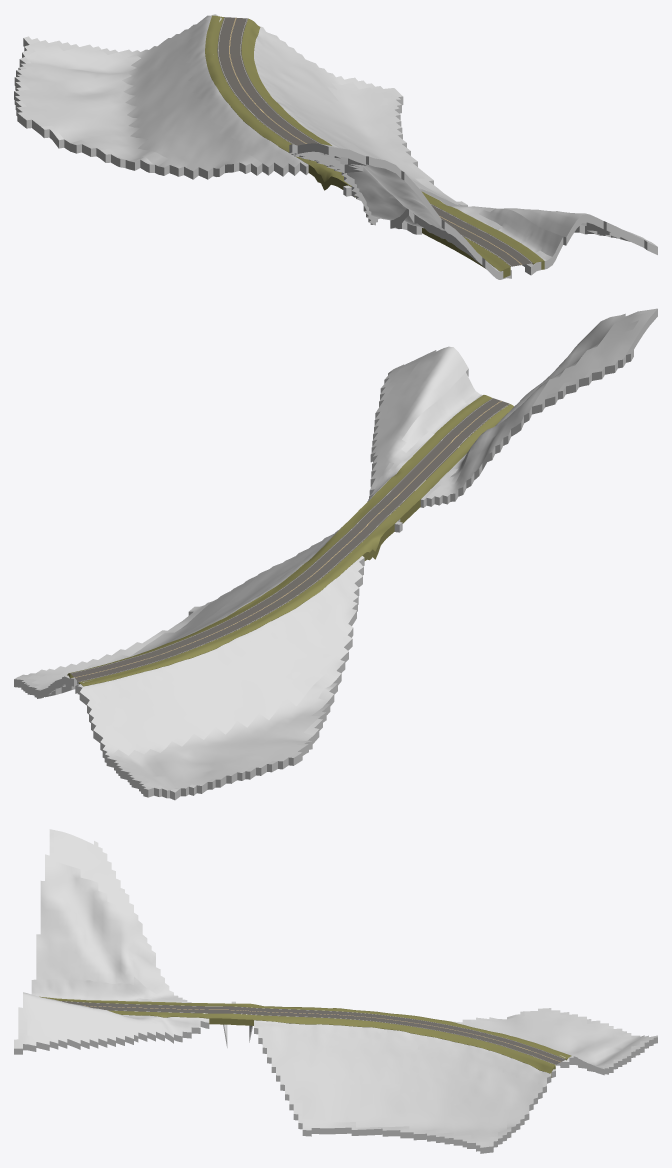
The model's file is conz_33.glb.
The picture shows the model from 3 angles, top to bottom: view 1: azimuth 30°, elevation 25°; view 2: azimuth 150°, elevation 25°; view 3: azimuth 270°, elevation 25°; orthographic projection. The views are drawn at different scales.
Visible parts, largest first — view 1: terrain33, road33, verge33R, verge33L, paint_white33; view 2: terrain33, road33, verge33R, verge33L; view 3: terrain33, road33, verge33L, verge33R.
Part boxes in pixels (x1,y1,x2,y2): terrain33: (14, 14, 657, 279); road33: (217, 17, 532, 266); verge33R: (205, 15, 510, 278); verge33L: (241, 18, 544, 269); paint_white33: (218, 17, 531, 266); terrain33: (14, 308, 657, 800); road33: (70, 398, 509, 681); verge33R: (78, 404, 513, 686); verge33L: (67, 395, 492, 678); terrain33: (14, 829, 657, 1153); road33: (59, 1000, 565, 1064); verge33L: (108, 1010, 555, 1077); verge33R: (39, 996, 571, 1060).
Size of the model in its own units: 142 by 97.75 by 290.
